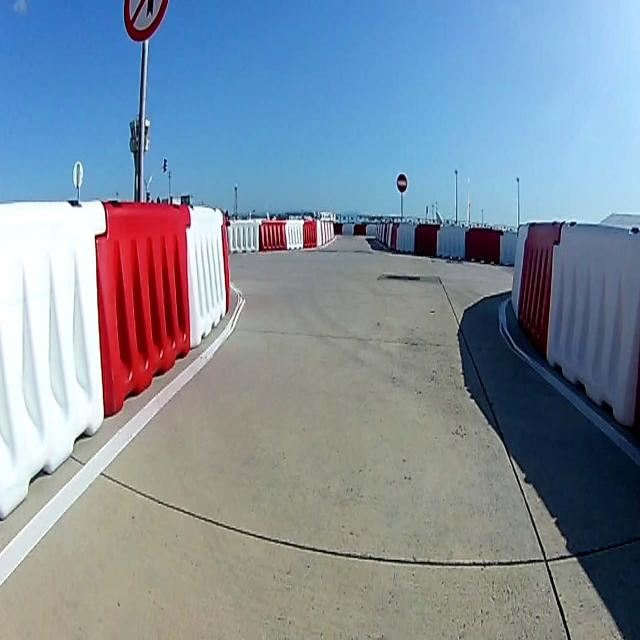girisyok: (396, 174, 408, 192)
